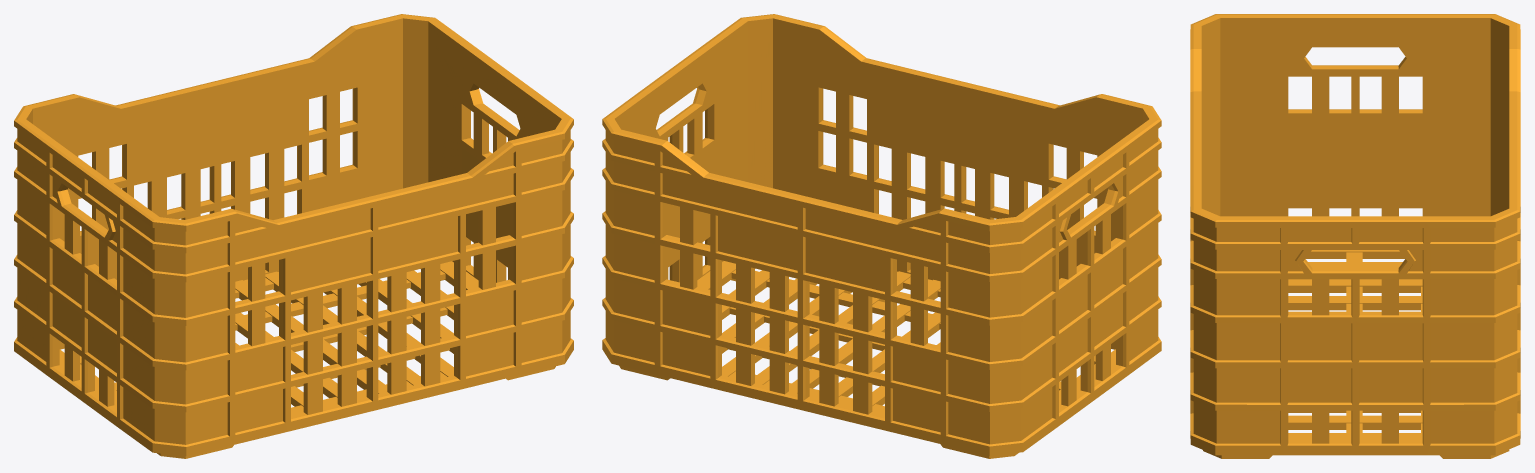
Rendered from SM_Crate_Plastic_Big.fbx.
3 renders of one model, left to right at view 1: azimuth 30°, elevation 25°; view 2: azimuth 150°, elevation 25°; view 3: azimuth 270°, elevation 25°, orthographic.
Visible parts, largest first — view 1: crate-plastic-big; view 2: crate-plastic-big; view 3: crate-plastic-big.
Boxes of the visible parts, x1=… form: crate-plastic-big: x1=14, y1=14, x2=573, y2=458; crate-plastic-big: x1=602, y1=14, x2=1161, y2=458; crate-plastic-big: x1=1190, y1=14, x2=1520, y2=458.
Bounding box in the file's own units: 0.6083 × 0.3307 × 0.4083.
